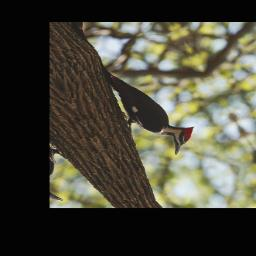Woodpecker: (78, 40, 205, 168)
